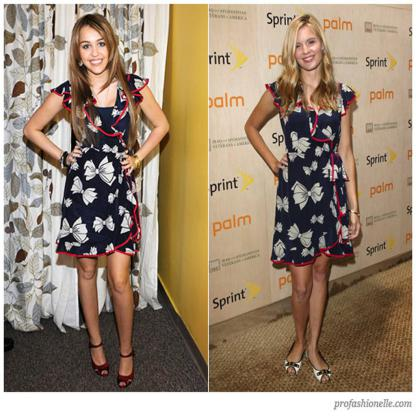face: (78, 28, 112, 76), (294, 23, 323, 72)
